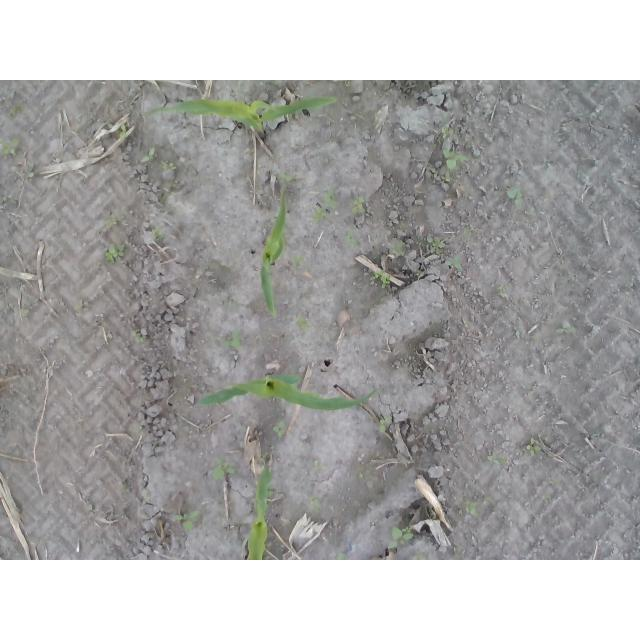Maize: (142, 94, 337, 141), (198, 374, 379, 415), (260, 187, 289, 320), (246, 462, 274, 560)
Weeds: (442, 146, 469, 183), (212, 452, 237, 480), (386, 526, 414, 550), (173, 511, 203, 533), (104, 240, 128, 264), (505, 186, 526, 208), (425, 236, 447, 256), (0, 136, 20, 156), (370, 270, 390, 289), (343, 230, 362, 250), (223, 327, 240, 349), (277, 173, 296, 192), (389, 237, 407, 257), (526, 436, 543, 456), (271, 415, 288, 434), (311, 207, 328, 225), (352, 196, 368, 215), (464, 499, 480, 518), (323, 189, 338, 209), (486, 451, 507, 465), (447, 256, 465, 272), (295, 314, 313, 330), (559, 321, 577, 335), (142, 144, 157, 160), (379, 415, 392, 433), (159, 160, 177, 173), (104, 214, 120, 228), (309, 495, 321, 513), (496, 283, 513, 294), (132, 329, 144, 343), (313, 460, 328, 471), (291, 255, 305, 266), (441, 128, 455, 139), (9, 105, 23, 114), (411, 552, 425, 560), (463, 227, 474, 237), (336, 552, 349, 560), (19, 307, 29, 317), (133, 423, 143, 433), (152, 227, 162, 237), (120, 127, 128, 138), (261, 451, 269, 459), (416, 271, 424, 278), (542, 497, 550, 504)
